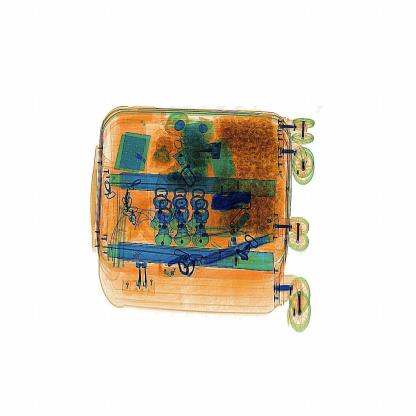knife: (208, 186, 254, 209)
